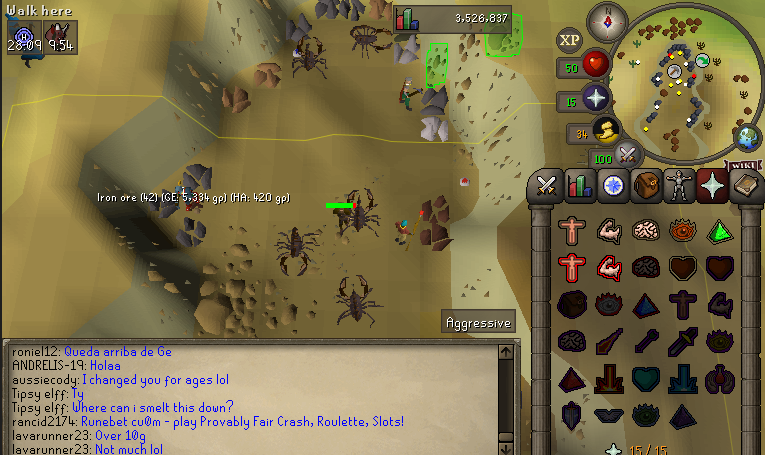depleted: (178, 159, 217, 195), (173, 215, 208, 251), (416, 84, 451, 115), (147, 187, 180, 219), (284, 13, 312, 43), (339, 1, 367, 21), (312, 1, 337, 18)
iron: (419, 192, 454, 227), (417, 225, 456, 256)
